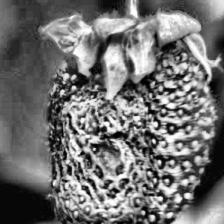Anthracnose Fruit Rot: (48, 45, 187, 224)
